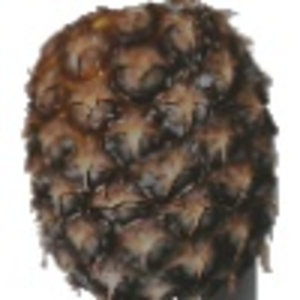abacaxi: (22, 4, 280, 296)
